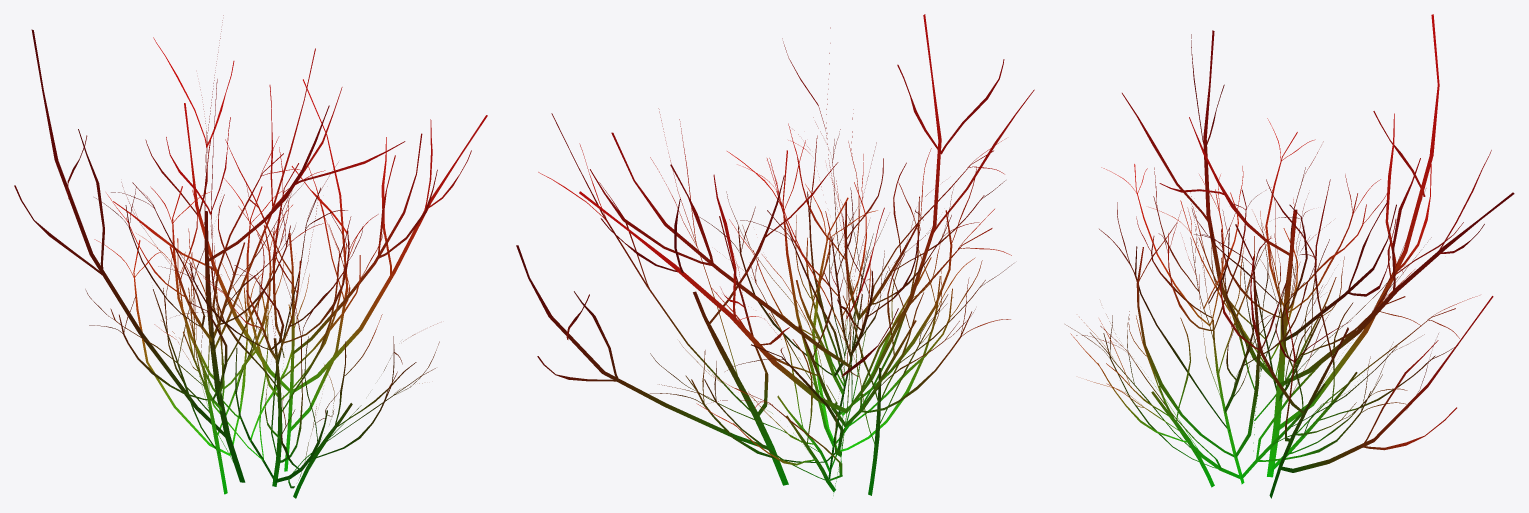
The model's file is Leptadenia_LOD3_Var7_xdkgfgtqx.fbx.
3 renders of one model, left to right at view 1: azimuth 30°, elevation 25°; view 2: azimuth 150°, elevation 25°; view 3: azimuth 270°, elevation 25°, orthographic. The views are drawn at different scales.
Parts seen in each view (by area): view 1: _6rkt_Var7_LOD3; view 2: _6rkt_Var7_LOD3; view 3: _6rkt_Var7_LOD3.
Boxes of the visible parts, x1=… form: _6rkt_Var7_LOD3: x1=14, y1=15, x2=487, y2=498; _6rkt_Var7_LOD3: x1=516, y1=14, x2=1034, y2=495; _6rkt_Var7_LOD3: x1=1065, y1=14, x2=1514, y2=498.
Size of the model in its own units: 78.28 by 79.58 by 77.16.
